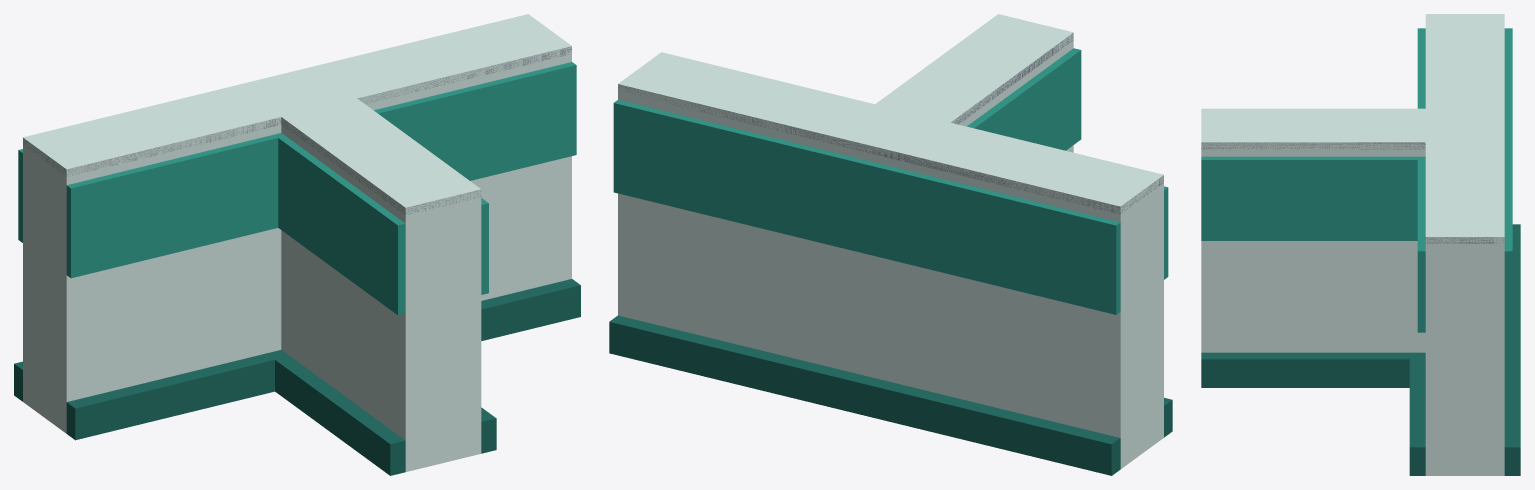
File: partition-tee.glb
3 renders of one model, left to right at view 1: azimuth 30°, elevation 25°; view 2: azimuth 150°, elevation 25°; view 3: azimuth 270°, elevation 25°, orthographic. The views are drawn at different scales.
Parts seen in each view (by area): view 1: partition-tee; view 2: partition-tee; view 3: partition-tee.
Part boxes in pixels (left/top/right/bottom): partition-tee: left=14, top=14, right=580, bottom=475; partition-tee: left=609, top=14, right=1172, bottom=475; partition-tee: left=1201, top=14, right=1520, bottom=475.
Bounding box in the file's own units: 1 × 0.5 × 0.605.
1 material, 1 textured.
